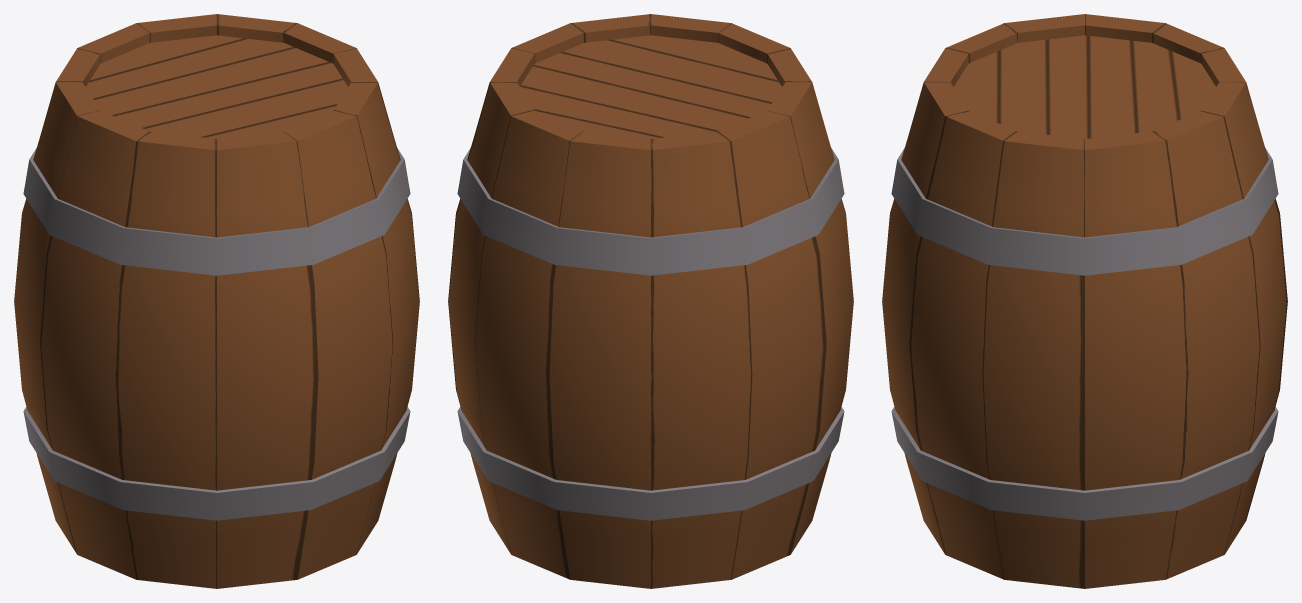
The model's file is Barrel.fbx.
The picture shows the model from 3 angles, left to right: view 1: azimuth 30°, elevation 25°; view 2: azimuth 150°, elevation 25°; view 3: azimuth 270°, elevation 25°; orthographic projection.
Parts seen in each view (by area): view 1: Cylinder; view 2: Cylinder; view 3: Cylinder.
Boxes of the visible parts, x1=… form: Cylinder: x1=14, y1=14, x2=419, y2=588; Cylinder: x1=448, y1=14, x2=853, y2=588; Cylinder: x1=882, y1=14, x2=1287, y2=588.
Size of the model in its own units: 262 by 313 by 262.
Materials: 1 (1 with a texture image).
